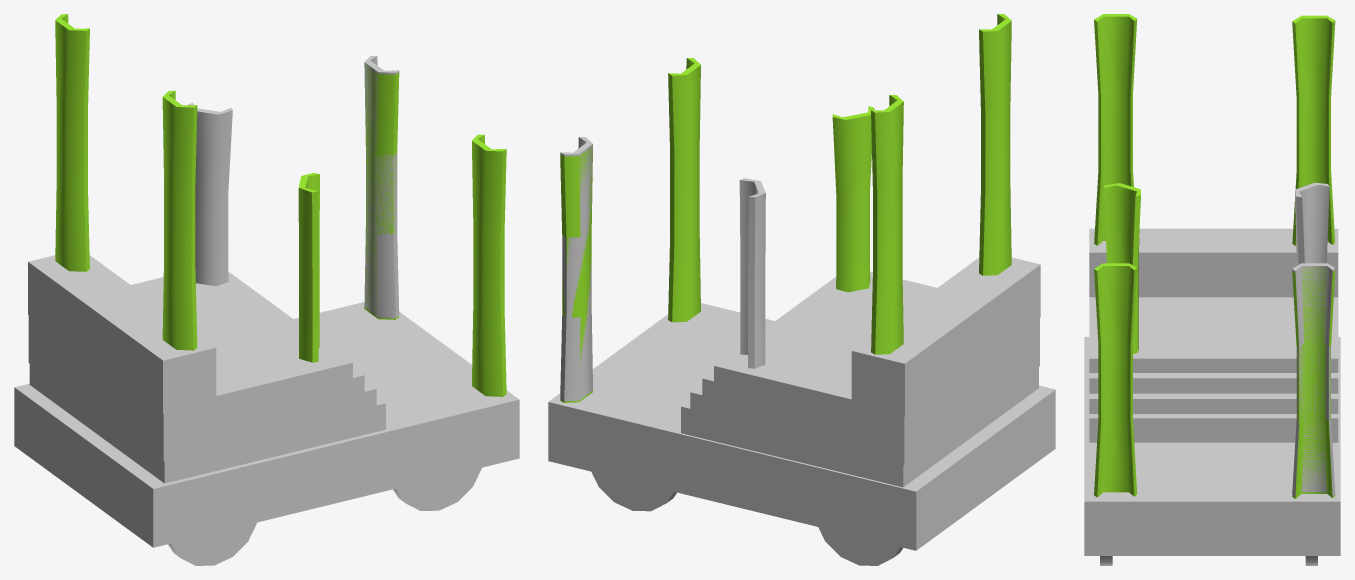
File: Celery Float.FBX
The picture shows the model from 3 angles, left to right: view 1: azimuth 30°, elevation 25°; view 2: azimuth 150°, elevation 25°; view 3: azimuth 270°, elevation 25°; orthographic projection. The views are drawn at different scales.
Visible parts, largest first — view 1: Box03, Box20, Box22, Box23, Box26, Box25, Box13, Box21, Box01, Box27, Box24, Box19 (+8 smaller); view 2: Box03, Box19, Box21, Box23, Box26, Box25, Box15, Box22, Box20, Box28, Box01, Box27 (+8 smaller); view 3: Box03, Box23, Box21, Box26, Box25, Box24, Box01, Box22, Box19, Box20, Box12, Box13 (+8 smaller).
Boxes of the visible parts, x1,y1,x2,y2 form: Box03: (14,302,519,547); Box20: (83,314,340,461); Box22: (83,289,216,413); Box23: (472,134,506,396); Box26: (162,90,197,350); Box25: (55,14,89,271); Box13: (93,397,385,483); Box21: (28,255,160,371); Box01: (364,56,399,318); Box27: (188,102,232,286); Box24: (364,66,399,319); Box19: (28,277,255,420); Box03: (548,303,1055,550); Box19: (726,335,959,465); Box21: (851,292,985,416); Box23: (668,58,700,322); Box26: (979,14,1011,275); Box25: (871,95,903,354); Box15: (681,400,983,487); Box22: (907,257,1040,357); Box20: (811,279,1039,424); Box28: (832,106,874,292); Box01: (560,137,592,401); Box27: (739,178,765,368); Box03: (1084,337,1340,555); Box23: (1094,263,1137,497); Box21: (1190,228,1338,297); Box26: (1094,14,1137,245); Box25: (1292,15,1335,245); Box24: (1292,267,1335,498); Box01: (1292,263,1335,496); Box22: (1089,228,1236,297); Box19: (1190,297,1338,340); Box20: (1089,297,1236,340); Box12: (1089,340,1236,372); Box13: (1089,414,1236,442).
Size of the model in its own units: 45.47 by 55.31 by 29.88.
